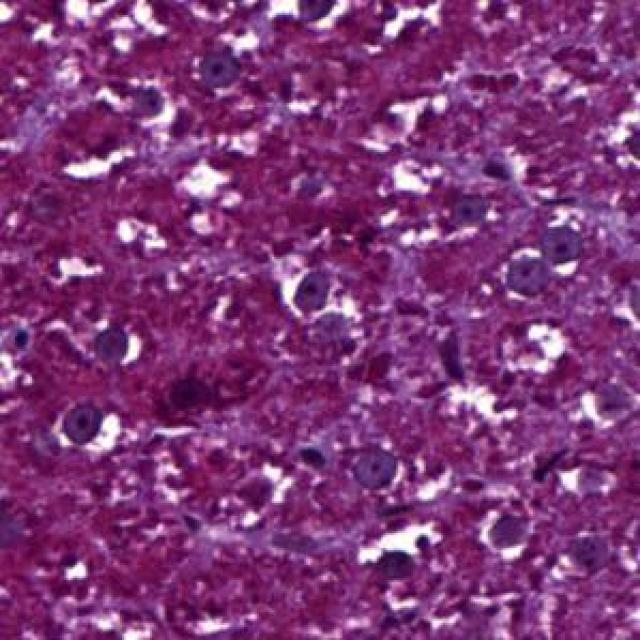inflammation: (496, 218, 588, 298), (469, 488, 546, 563), (45, 389, 124, 456), (278, 259, 353, 319), (274, 0, 355, 34)
